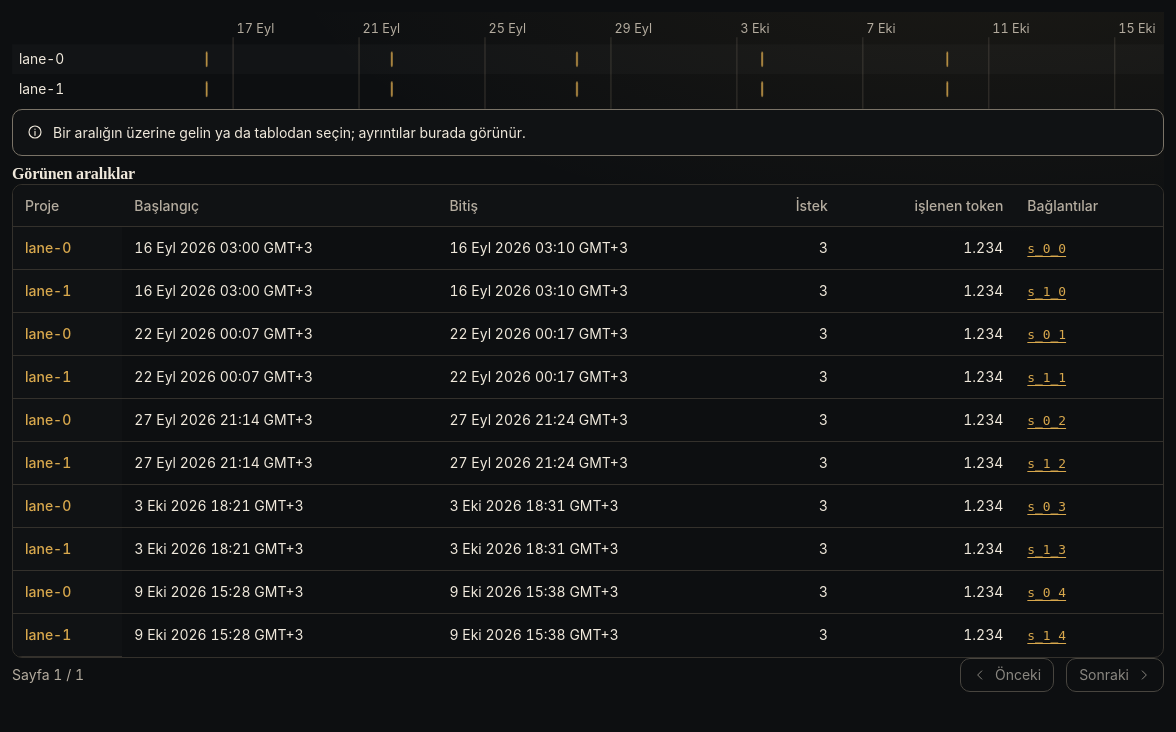
Timeline › shows interval details with timezone on table focus
The width and height of the screenshot is (1176, 732).
Focus the button with aria-label "lane-0 aralığını seç" at (48,248), box [25, 238, 71, 259]
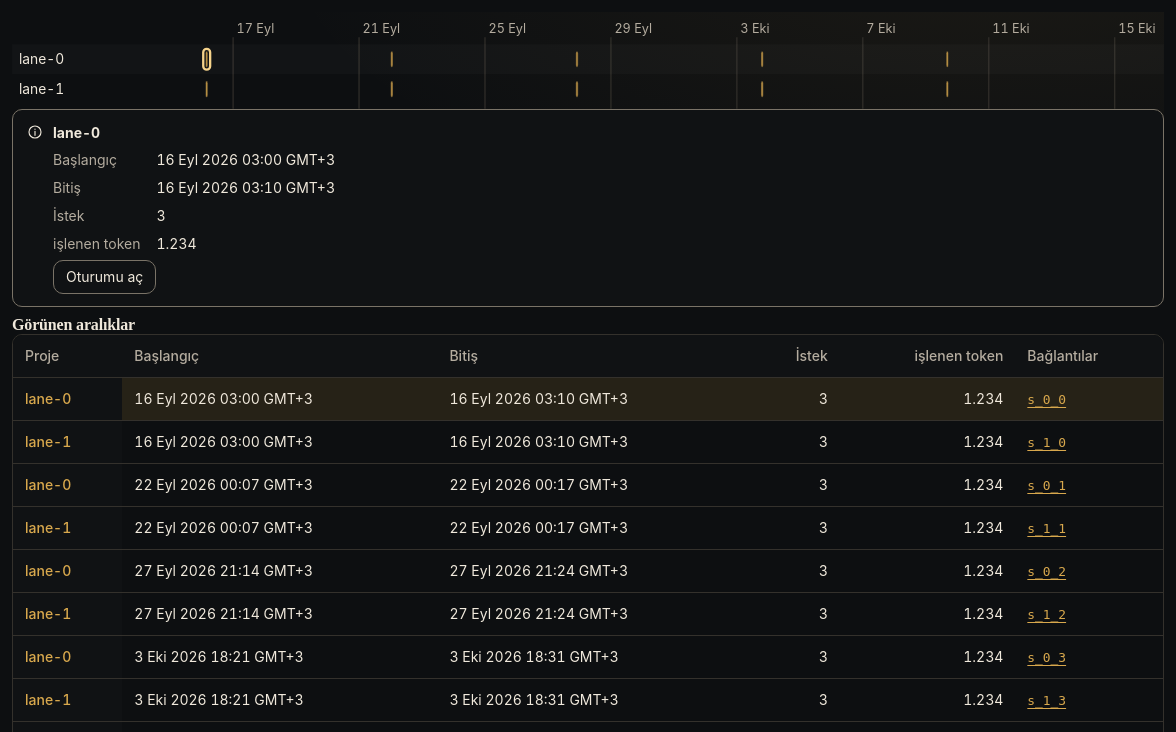
Result: the message with test id "tl-active" shows "lane-0" at [53, 124, 100, 141]
Result: the link "Oturumu aç" is shown at [53, 260, 156, 294]
